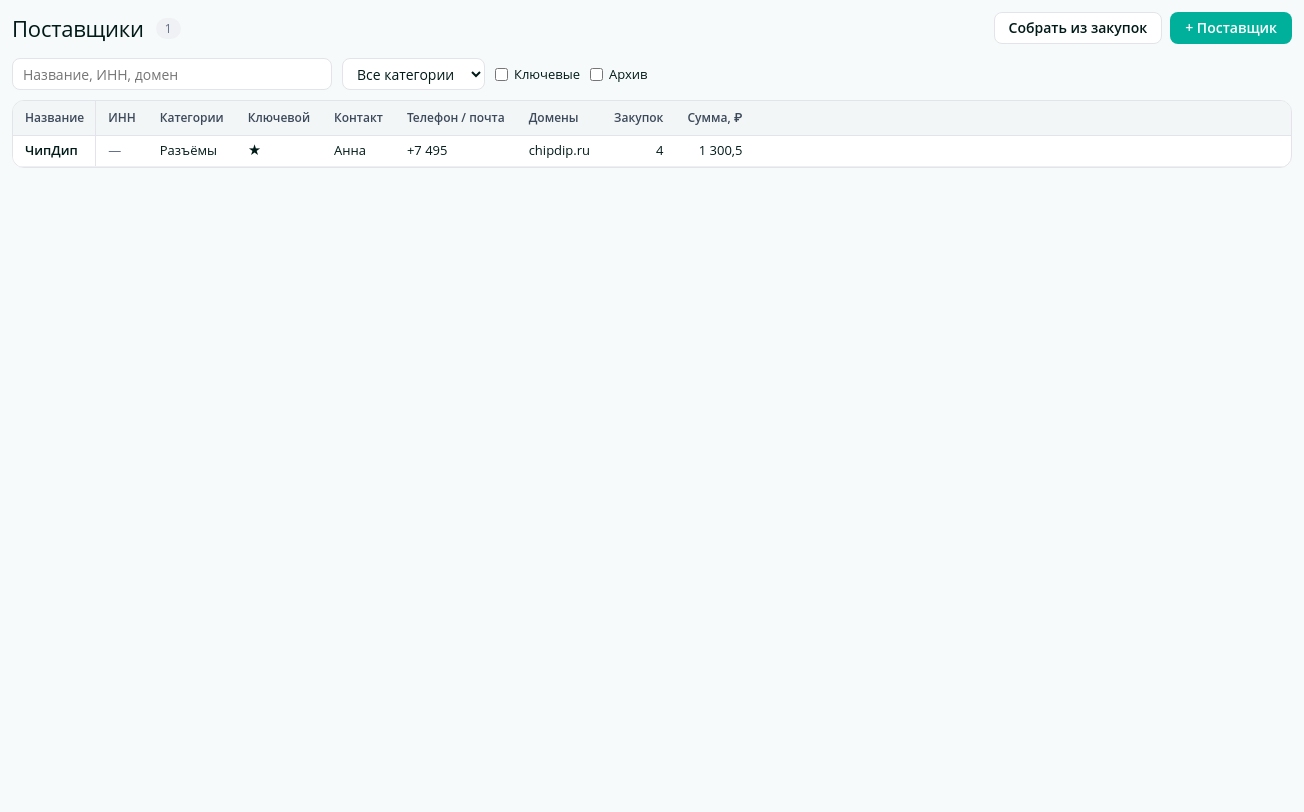
Test: opens a card with stats on a row click
Step 1. Click the text "ЧипДип" → {"x": 55, "y": 151}, box [13,136,96,166]
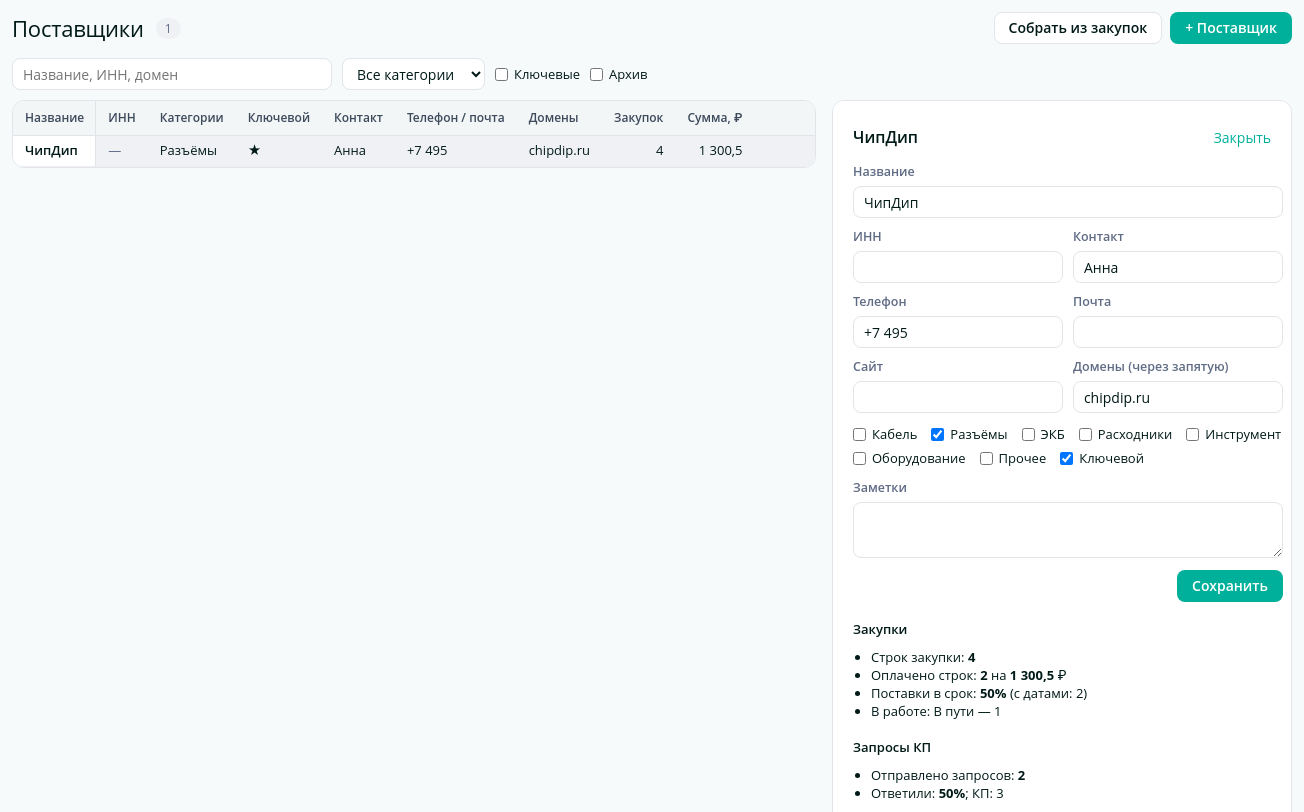
Expected: the list item "В работе: В пути — 1" is shown, [871,702,1002,720]
